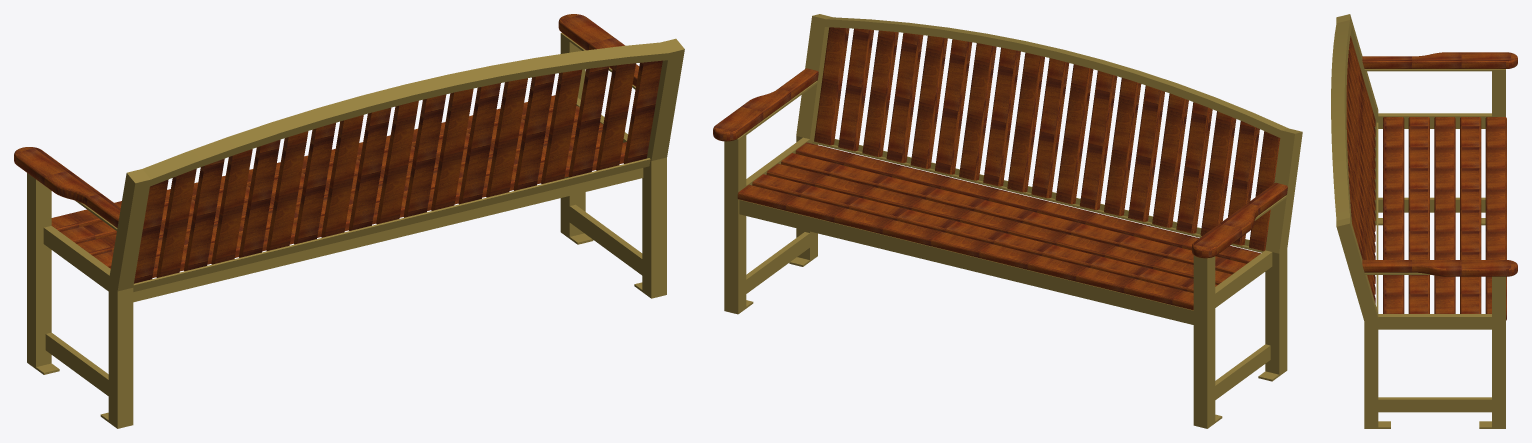
The picture shows the model from 3 angles, left to right: view 1: azimuth 30°, elevation 25°; view 2: azimuth 150°, elevation 25°; view 3: azimuth 270°, elevation 25°; orthographic projection. The views are drawn at different scales.
Parts seen in each view (by area): view 1: mesh17_mesh17-geometry, mesh2_mesh2-geometry, mesh38_mesh38-geometry, mesh29_mesh29-geometry, mesh28_mesh28-geometry, mesh37_mesh37-geometry, mesh26_mesh26-geometry, mesh33_mesh33-geometry, mesh32_mesh32-geometry, mesh23_mesh23-geometry, mesh36_mesh36-geometry, mesh24_mesh24-geometry (+15 smaller); view 2: mesh17_mesh17-geometry, mesh10_mesh10-geometry, mesh9_mesh9-geometry, mesh11_mesh11-geometry, mesh8_mesh8-geometry, mesh7_mesh7-geometry, mesh29_mesh29-geometry, mesh38_mesh38-geometry, mesh28_mesh28-geometry, mesh37_mesh37-geometry, mesh26_mesh26-geometry, mesh33_mesh33-geometry (+15 smaller); view 3: mesh17_mesh17-geometry, mesh7_mesh7-geometry, mesh8_mesh8-geometry, mesh11_mesh11-geometry, mesh9_mesh9-geometry, mesh10_mesh10-geometry, mesh1_mesh1-geometry, mesh2_mesh2-geometry, mesh26_mesh26-geometry, mesh28_mesh28-geometry, mesh29_mesh29-geometry, mesh32_mesh32-geometry (+13 smaller).
Part boxes in pixels (x1,y1,x2,y2): mesh17_mesh17-geometry: (27, 33, 684, 428); mesh2_mesh2-geometry: (14, 147, 120, 227); mesh38_mesh38-geometry: (403, 94, 446, 217); mesh29_mesh29-geometry: (376, 100, 418, 224); mesh28_mesh28-geometry: (348, 107, 391, 230); mesh37_mesh37-geometry: (431, 88, 473, 210); mesh26_mesh26-geometry: (321, 115, 363, 237); mesh33_mesh33-geometry: (458, 83, 500, 204); mesh32_mesh32-geometry: (293, 122, 335, 244); mesh23_mesh23-geometry: (486, 78, 527, 197); mesh36_mesh36-geometry: (266, 131, 308, 250); mesh24_mesh24-geometry: (513, 73, 554, 190); mesh17_mesh17-geometry: (724, 14, 1302, 428); mesh10_mesh10-geometry: (737, 184, 1193, 310); mesh9_mesh9-geometry: (752, 174, 1217, 292); mesh11_mesh11-geometry: (766, 163, 1231, 284); mesh8_mesh8-geometry: (781, 153, 1246, 274); mesh7_mesh7-geometry: (795, 142, 1260, 263); mesh29_mesh29-geometry: (1031, 58, 1069, 198); mesh38_mesh38-geometry: (1007, 52, 1044, 192); mesh28_mesh28-geometry: (1055, 64, 1093, 204); mesh37_mesh37-geometry: (983, 47, 1020, 186); mesh26_mesh26-geometry: (1080, 70, 1117, 209); mesh33_mesh33-geometry: (959, 43, 996, 180); mesh17_mesh17-geometry: (1331, 14, 1505, 428); mesh7_mesh7-geometry: (1383, 117, 1404, 313); mesh8_mesh8-geometry: (1408, 117, 1429, 313); mesh11_mesh11-geometry: (1434, 117, 1455, 313); mesh9_mesh9-geometry: (1460, 117, 1481, 313); mesh10_mesh10-geometry: (1485, 117, 1506, 320); mesh1_mesh1-geometry: (1362, 260, 1517, 276); mesh2_mesh2-geometry: (1362, 52, 1517, 68); mesh26_mesh26-geometry: (1346, 96, 1375, 200); mesh28_mesh28-geometry: (1346, 106, 1375, 210); mesh29_mesh29-geometry: (1346, 117, 1375, 220); mesh32_mesh32-geometry: (1346, 85, 1375, 189).
Size of the model in its own units: 0.857 by 0.4109 by 0.3109.
